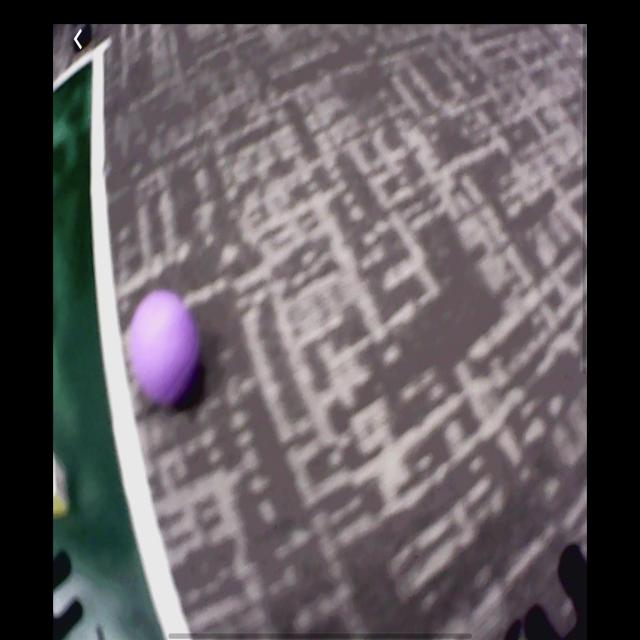ball: (130, 292, 201, 409)
